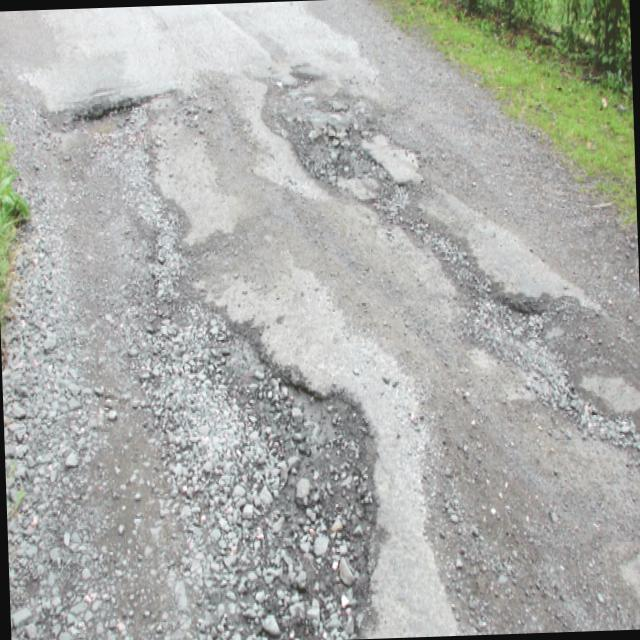bad-road: (31, 84, 386, 640), (410, 255, 640, 631), (370, 120, 508, 258)
